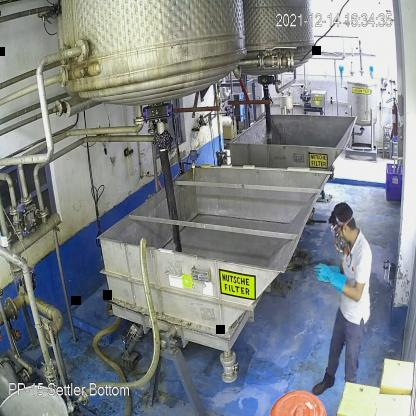mask: (332, 231, 350, 253)
shoes: (312, 367, 338, 398)
